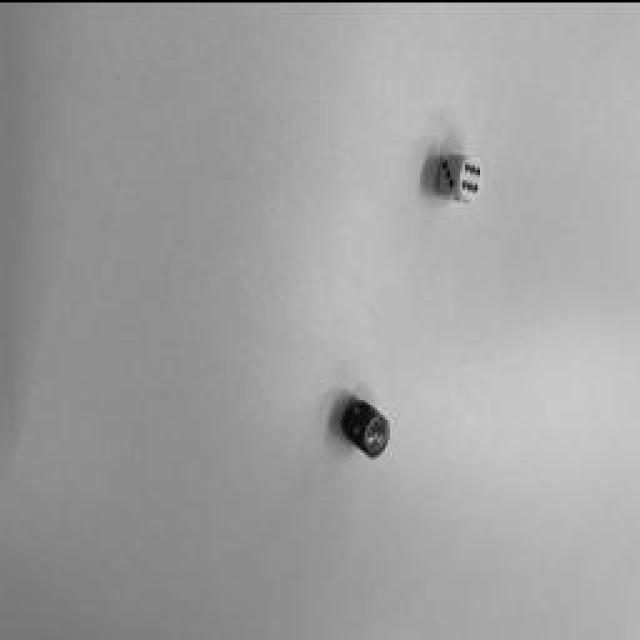dice_1: (362, 412, 390, 458)
dice_6: (460, 155, 482, 197)
